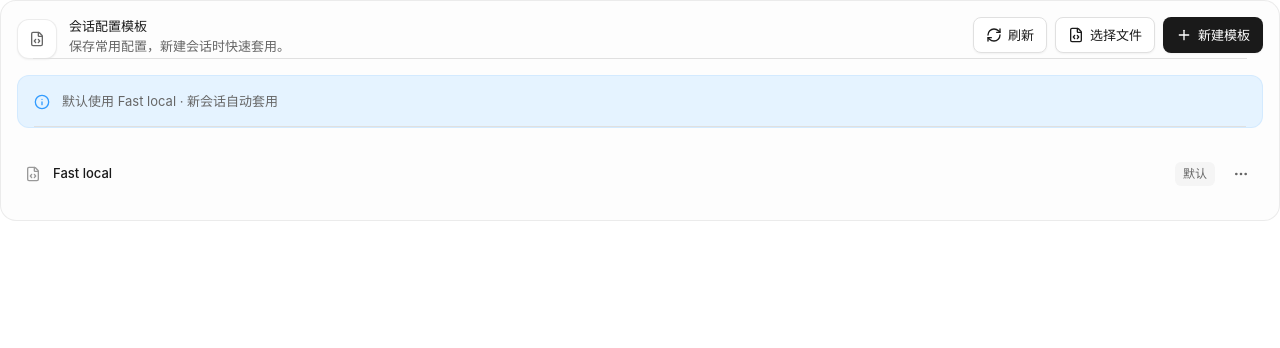
Scenario: retains the last catalog and default when refresh fails
Expected: the text "Fast local" is shown, [53,165,112,181]
Click the button with test id "config-templates-refresh" at (1010, 35), box [973,17,1047,53]
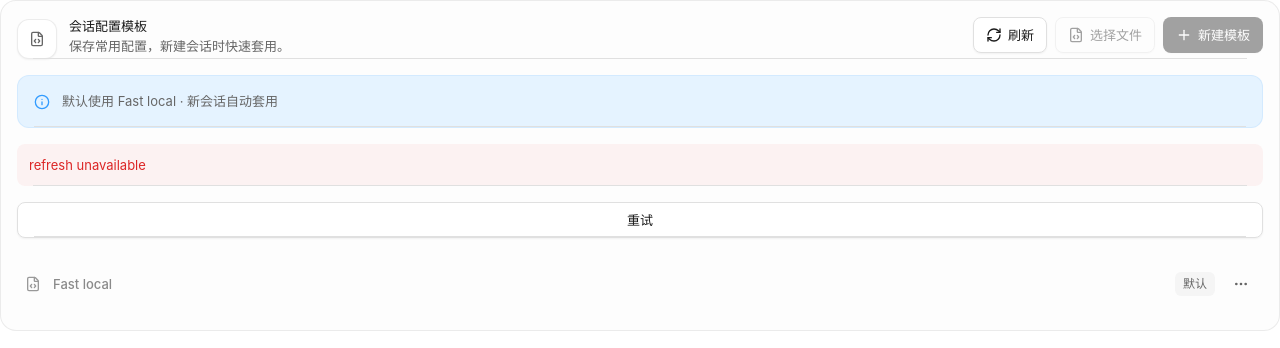
Expected: the list item with test id "config-template-fast-local" is shown, [17,254,1263,314]
Result: the text "refresh unavailable" is shown at [17,144,1263,186]
Click the button with test id "config-templates-retry" at (640, 220), box [17,202,1263,238]
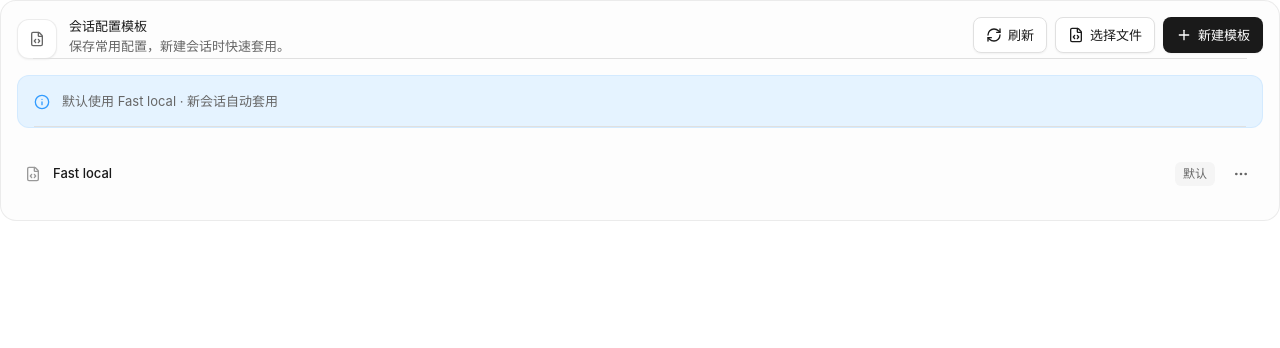
Result: the message with test id "config-templates-error" is gone
Result: the button with test id "config-template-edit-fast-local" is enabled at [53,152,1163,196]
